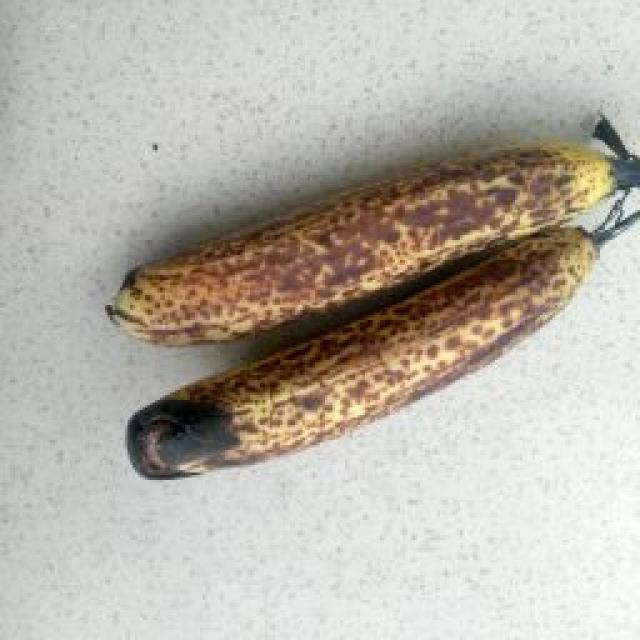banana: (60, 61, 561, 499)
